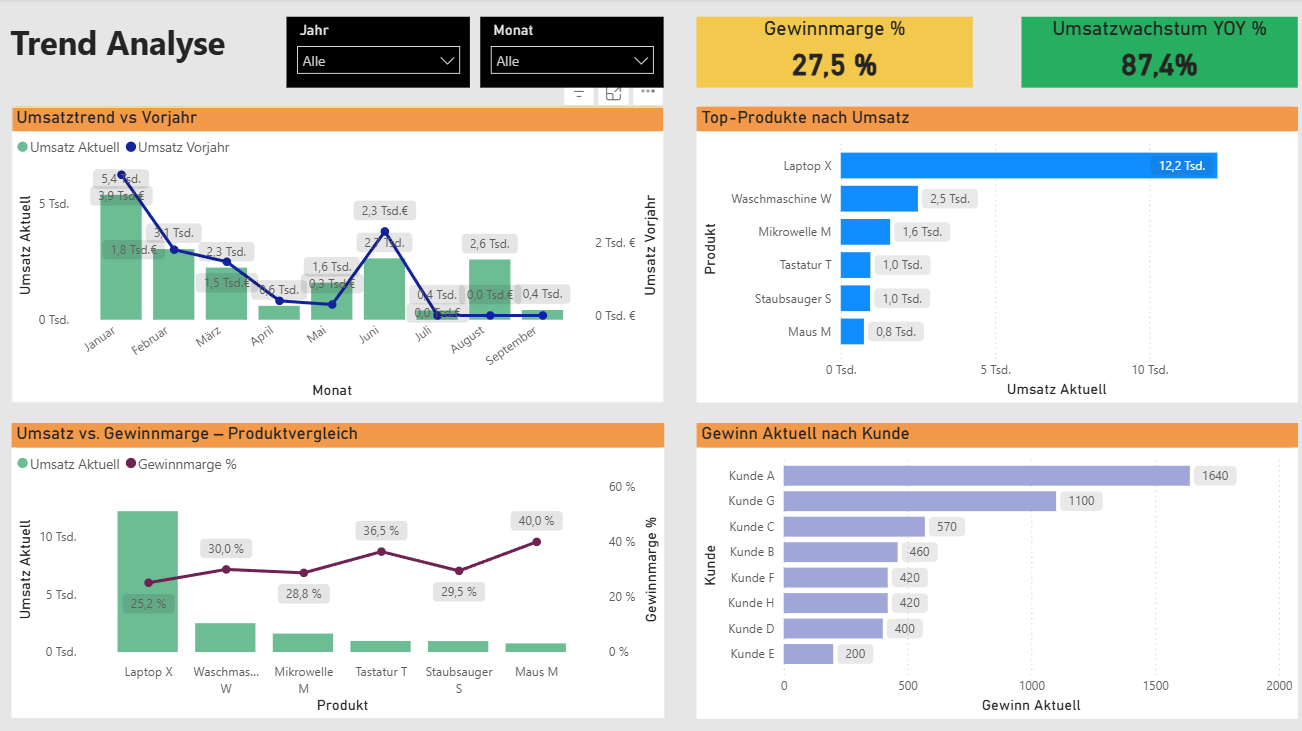

What the dashboard file says about the page in this screenshot:
{"tool":"powerbi","page":{"name":"Trend Analyse","canvas":[1280,720],"ordinal":1},"visuals":[{"type":"lineClusteredColumnComboChart","title":"Umsatztrend vs Vorjahr","fields":{"Category":["Dim_Monat.Monat"],"Y":["_Measures.Umsatz Aktuell"],"Y2":["_Measures.Umsatz Vorjahr"]},"box":[12.3,106.7,640,290.8],"z":0},{"type":"slicer","title":"Jahr","fields":{"Values":["tbl_Calendar.Jahr"]},"box":[282.2,18.4,180.4,69.9],"z":1000},{"type":"card","title":"Umsatzwachstum YOY %","fields":{"Values":["_Measures.YOY Umsatz %"]},"box":[1003.7,18.4,271.2,69.9],"z":2000},{"type":"clusteredBarChart","title":"Top-Produkte nach Umsatz","fields":{"Category":["tbl_Sales.Produkt"],"Y":["tbl_Sales.Umsatz Aktuell"]},"box":[684.7,106.7,590,290],"z":3000},{"type":"lineClusteredColumnComboChart","title":"Umsatz vs. Gewinnmarge – Produktvergleich","fields":{"Category":["tbl_Sales.Produkt"],"Y":["tbl_Sales.Umsatz Aktuell"],"Y2":["tbl_Sales.Gewinnmarge %"]},"box":[12.3,417.2,640.5,289.6],"z":4000},{"type":"clusteredBarChart","fields":{"Y":["tbl_Sales.Gewinn Aktuell"],"Category":["tbl_Sales.Kunde"]},"box":[684.7,417.2,590,290],"z":5000},{"type":"card","title":"Gewinnmarge %","fields":{"Values":["tbl_Sales.Gewinnmarge %"]},"box":[684.7,18.4,271.2,69.9],"z":6000},{"type":"slicer","title":"Monat","fields":{"Values":["Dim_Monat.Monat"]},"box":[472.4,18.4,180.4,69.9],"z":7000},{"type":"textbox","box":[0,17.2,233.1,62.6],"z":8000}]}

Visuals, with their boxes in screenshot pixels (x1, y1, x2, y2), scaled from the page's 1280x720 canvas onto the 1302x731 screenshot:
"Umsatztrend vs Vorjahr" lineClusteredColumnComboChart: pyautogui.locateOnScreen(13, 108, 664, 404)
"Jahr" slicer: pyautogui.locateOnScreen(287, 19, 471, 90)
"Umsatzwachstum YOY %" card: pyautogui.locateOnScreen(1021, 19, 1297, 90)
"Top-Produkte nach Umsatz" clusteredBarChart: pyautogui.locateOnScreen(696, 108, 1297, 403)
"Umsatz vs. Gewinnmarge – Produktvergleich" lineClusteredColumnComboChart: pyautogui.locateOnScreen(13, 424, 664, 718)
clusteredBarChart - tbl_Sales.Gewinn Aktuell x tbl_Sales.Kunde: pyautogui.locateOnScreen(696, 424, 1297, 718)
"Gewinnmarge %" card: pyautogui.locateOnScreen(696, 19, 972, 90)
"Monat" slicer: pyautogui.locateOnScreen(481, 19, 664, 90)
textbox: pyautogui.locateOnScreen(0, 17, 237, 81)
